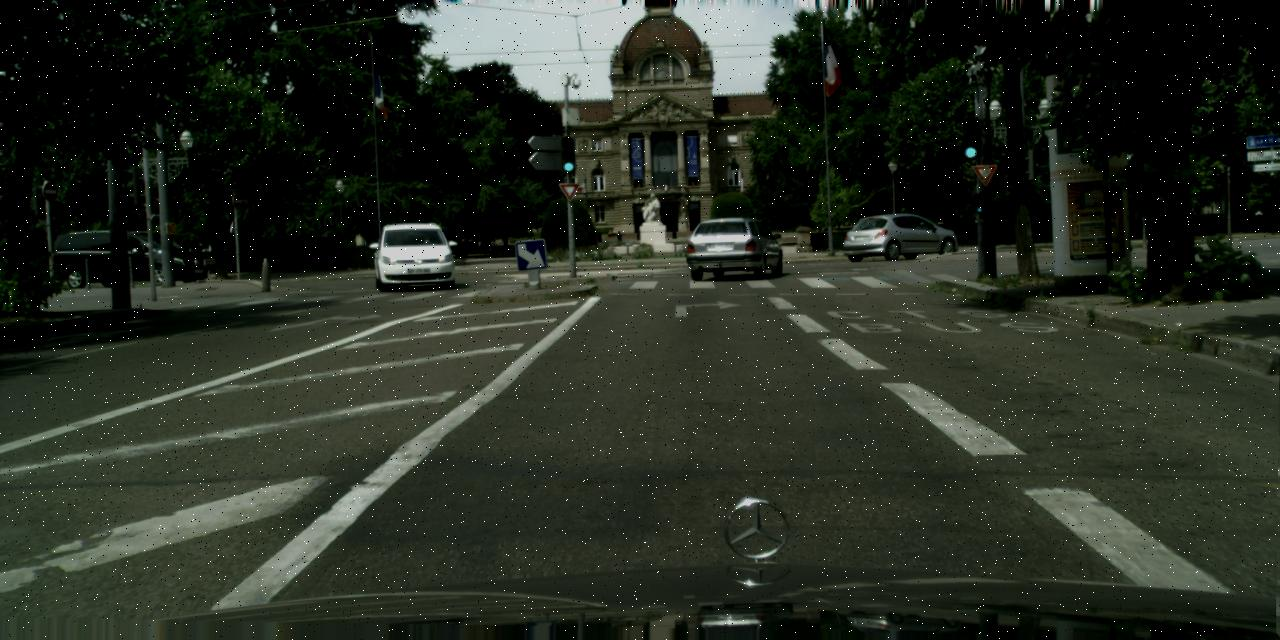ped: (460, 239, 469, 261)
